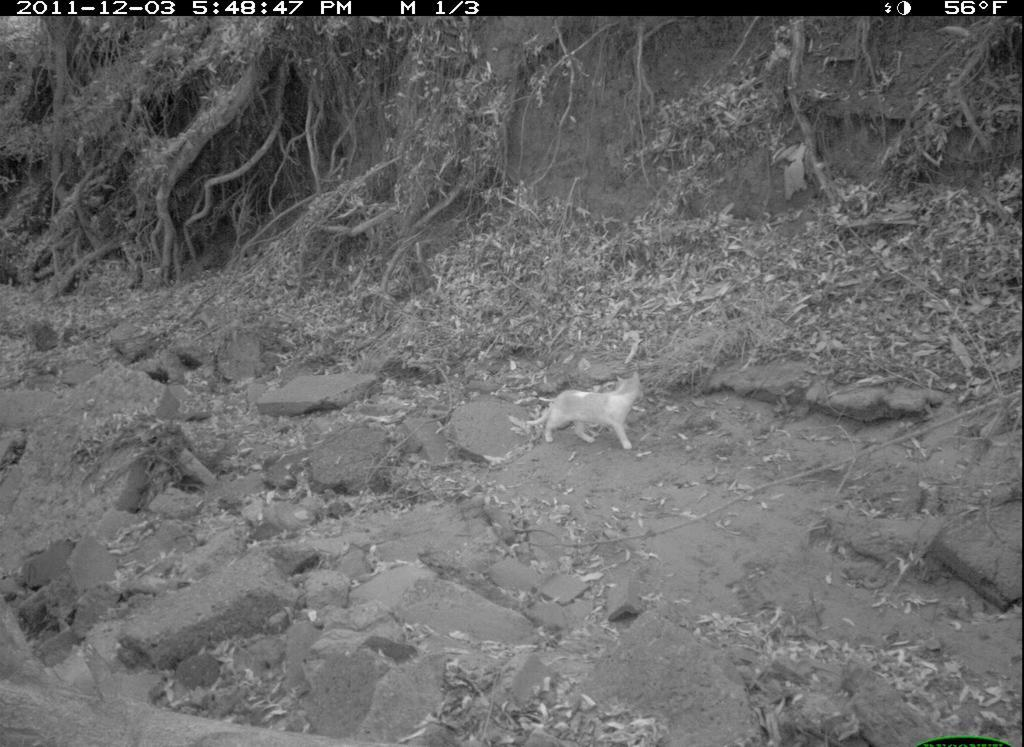cat: (524, 372, 647, 454)
